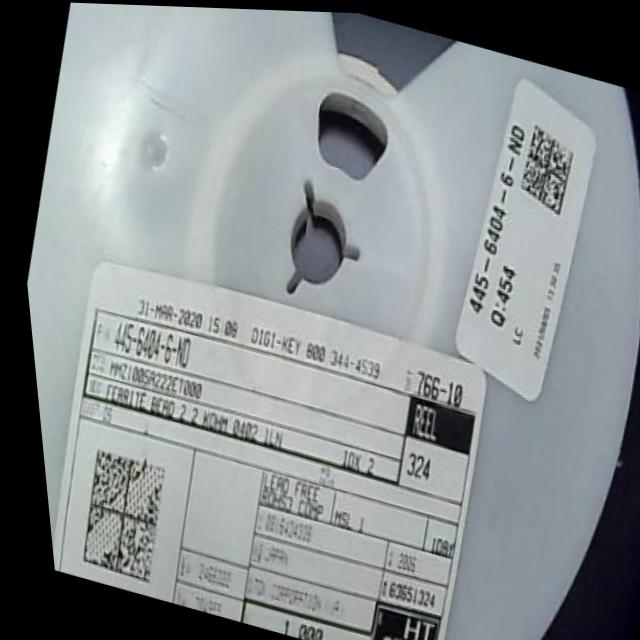datamatrix: (57, 444, 170, 588), (507, 116, 583, 215)
